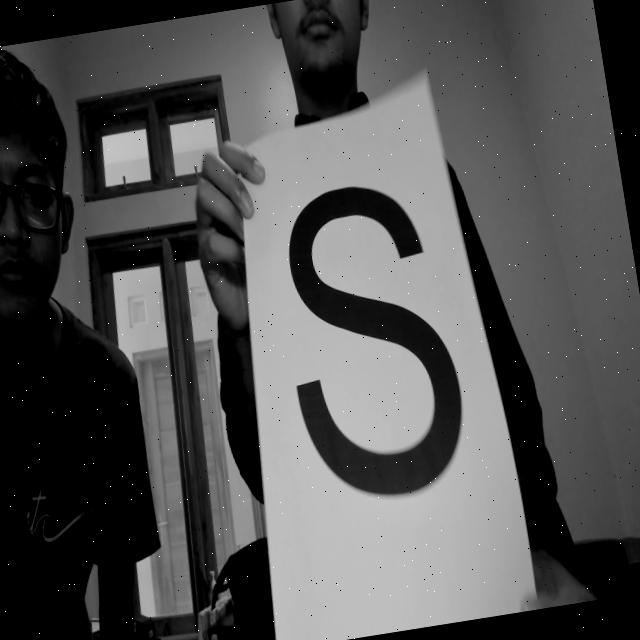s: (263, 164, 484, 526)
